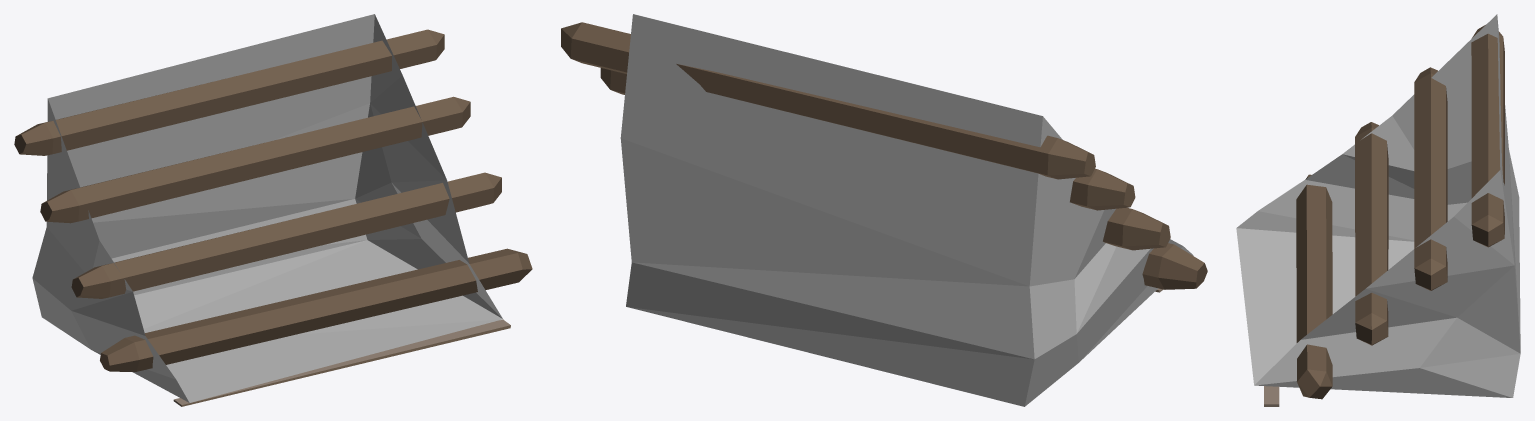
The model's file is EA03_Village_Hut_Roof_Half_01a.glb.
The picture shows the model from 3 angles, left to right: view 1: azimuth 30°, elevation 25°; view 2: azimuth 150°, elevation 25°; view 3: azimuth 270°, elevation 25°; orthographic projection. The views are drawn at different scales.
Parts seen in each view (by area): view 1: EA03_Village_Hut_Roof_Half_01a; view 2: EA03_Village_Hut_Roof_Half_01a; view 3: EA03_Village_Hut_Roof_Half_01a.
Part boxes in pixels (x1,y1,x2,y2): EA03_Village_Hut_Roof_Half_01a: (14,14,532,406); EA03_Village_Hut_Roof_Half_01a: (561,14,1207,406); EA03_Village_Hut_Roof_Half_01a: (1236,14,1520,406).
Size of the model in its own units: 9.72 by 5.01 by 5.63.
1 material, 1 textured.
